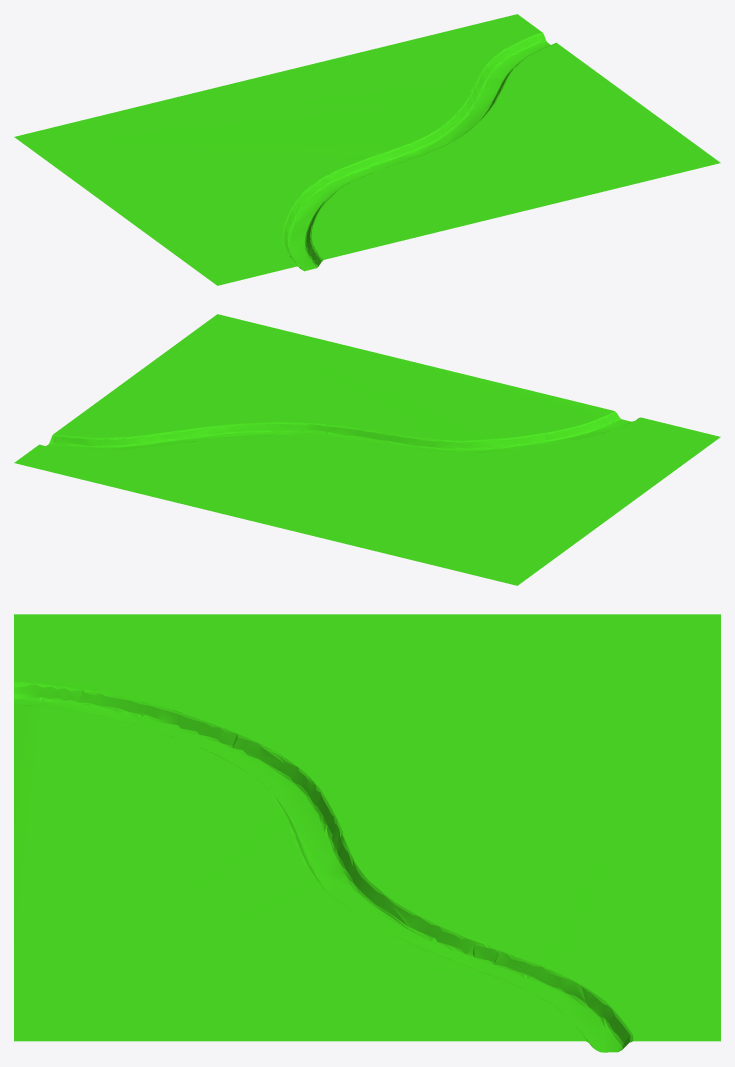
File: river.dae
3 renders of one model, top to bottom at view 1: azimuth 30°, elevation 25°; view 2: azimuth 150°, elevation 25°; view 3: azimuth 270°, elevation 25°, orthographic. The views are drawn at different scales.
Parts seen in each view (by area): view 1: Plane; view 2: Plane; view 3: Plane.
Boxes of the visible parts, x1,y1,x2,y2 form: Plane: [14, 14, 720, 285]; Plane: [14, 314, 720, 585]; Plane: [14, 614, 720, 1052].
Size of the model in its own units: 40 by 28 by 0.4999.
